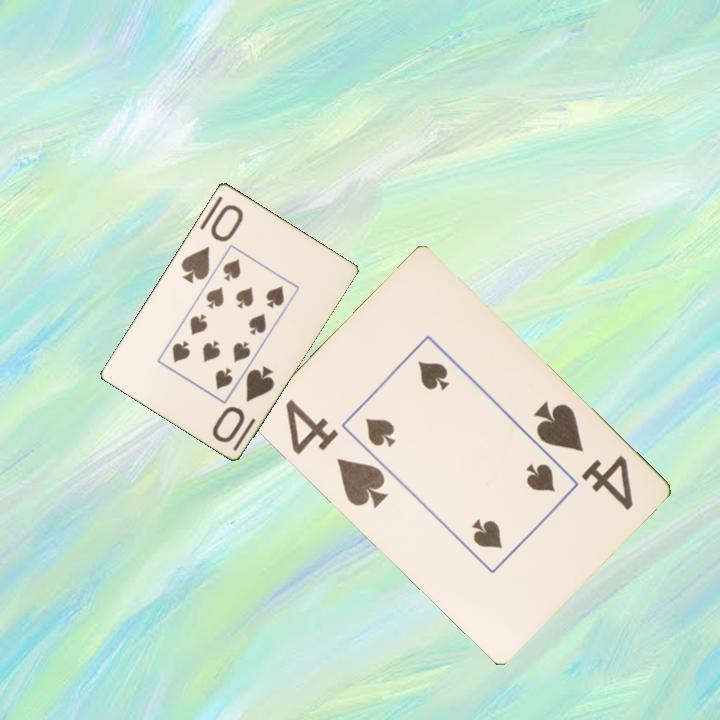10s: (177, 200, 246, 286), (208, 361, 277, 445)
4s: (281, 395, 390, 511), (528, 397, 636, 513)
